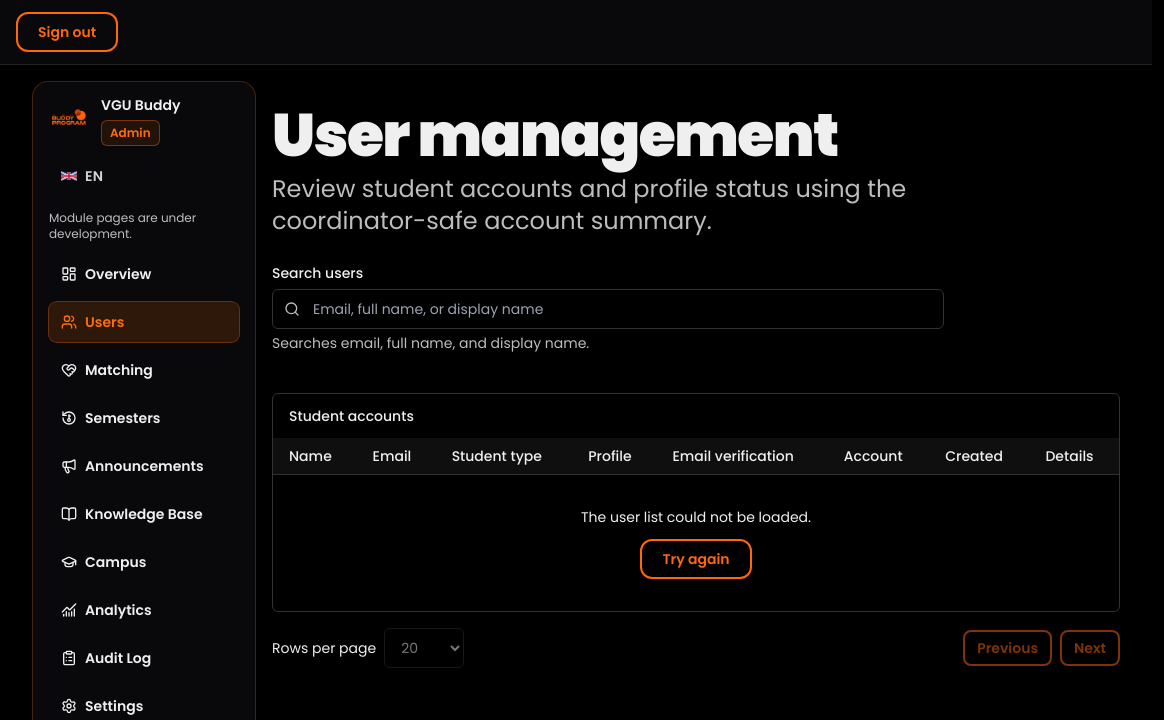
Test: ADMIN-012 guarded Admin User Management page › shows only a safe error and retries successfully
The width and height of the screenshot is (1164, 720).
Expected: the message reads "The user list could not be loaded.", x1=581 y1=507 x2=811 y2=527
Click the button "Try again": (696, 559) x1=640 y1=539 x2=752 y2=579
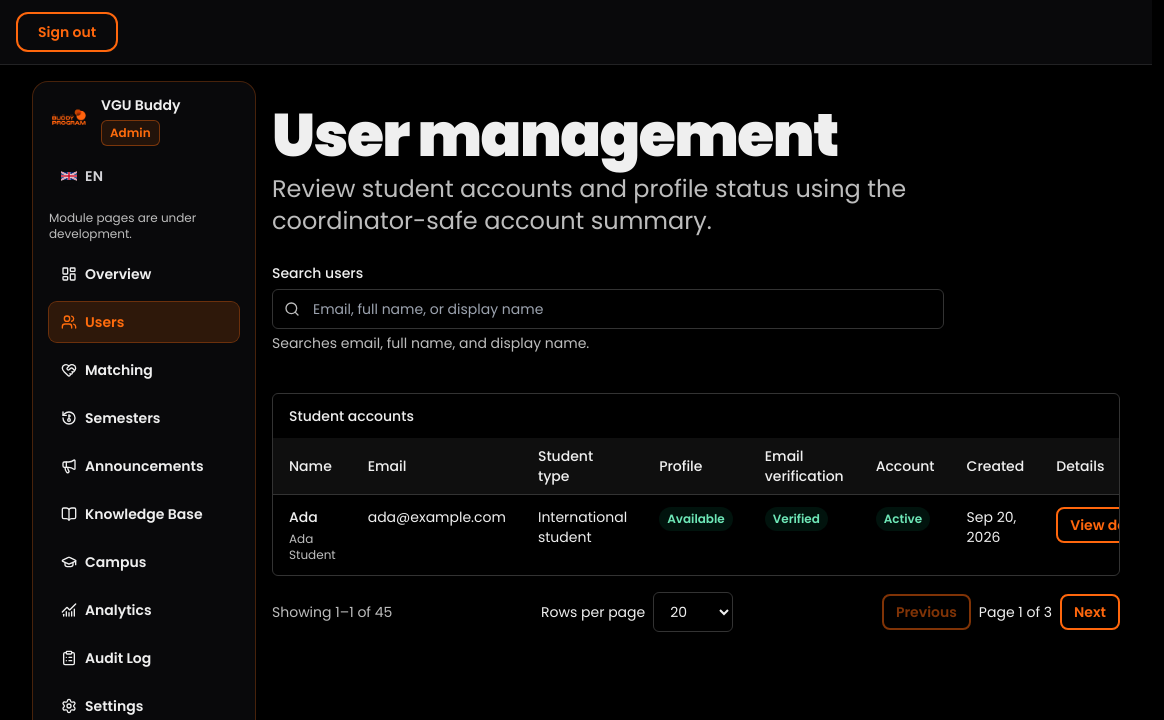
Expected: the text "ada@example.com" is shown, x1=352 y1=494 x2=522 y2=575
